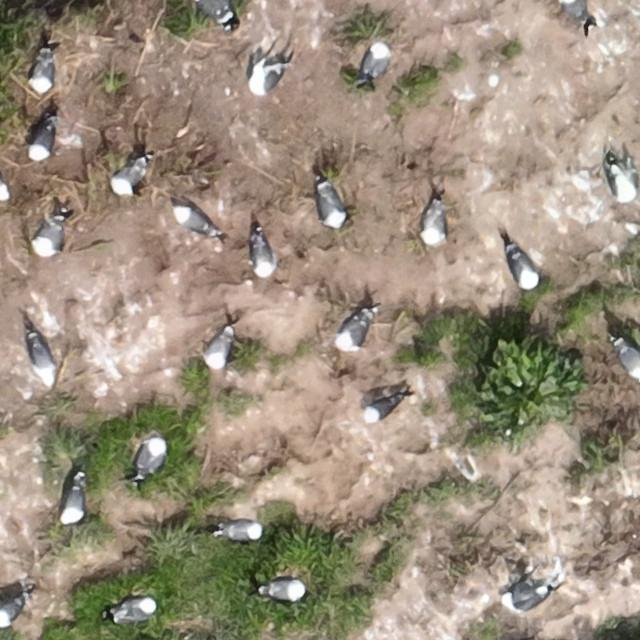umineko: (248, 52, 286, 96), (499, 584, 545, 612), (319, 184, 346, 227), (135, 435, 164, 473), (175, 209, 214, 236), (338, 314, 368, 349), (511, 251, 538, 289), (207, 330, 233, 368), (607, 155, 631, 196), (36, 219, 64, 254), (33, 341, 56, 383), (114, 159, 144, 191), (423, 205, 446, 246), (252, 237, 274, 276), (617, 343, 640, 379), (364, 44, 388, 78), (117, 598, 154, 620), (63, 485, 83, 524), (366, 397, 398, 421), (264, 580, 304, 599), (34, 54, 55, 90), (33, 124, 55, 157), (222, 521, 261, 539), (562, 1, 590, 26), (195, 1, 229, 21), (0, 598, 23, 627), (0, 174, 8, 200)
